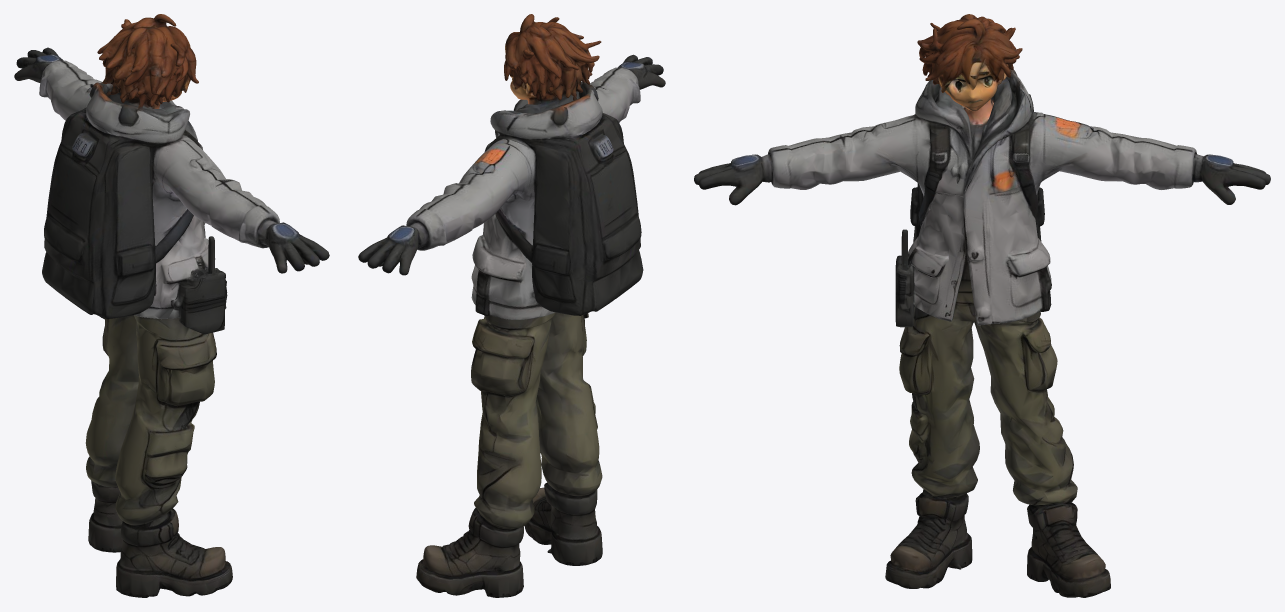
File: n2_story_strand.8e4ee4cc.glb
3 renders of one model, left to right at view 1: azimuth 30°, elevation 25°; view 2: azimuth 150°, elevation 25°; view 3: azimuth 270°, elevation 25°, orthographic. The views are drawn at different scales.
Parts seen in each view (by area): view 1: tripo_node_3a68a98e-857d-4c8a-abdf-c8701985925e; view 2: tripo_node_3a68a98e-857d-4c8a-abdf-c8701985925e; view 3: tripo_node_3a68a98e-857d-4c8a-abdf-c8701985925e.
Boxes of the visible parts, x1,y1,x2,y2 form: tripo_node_3a68a98e-857d-4c8a-abdf-c8701985925e: (14,14,329,597); tripo_node_3a68a98e-857d-4c8a-abdf-c8701985925e: (358,14,665,597); tripo_node_3a68a98e-857d-4c8a-abdf-c8701985925e: (694,14,1270,597).
Bounding box in the file's own units: 0.3038 × 0.9998 × 0.9337.
1 material, 1 textured.
